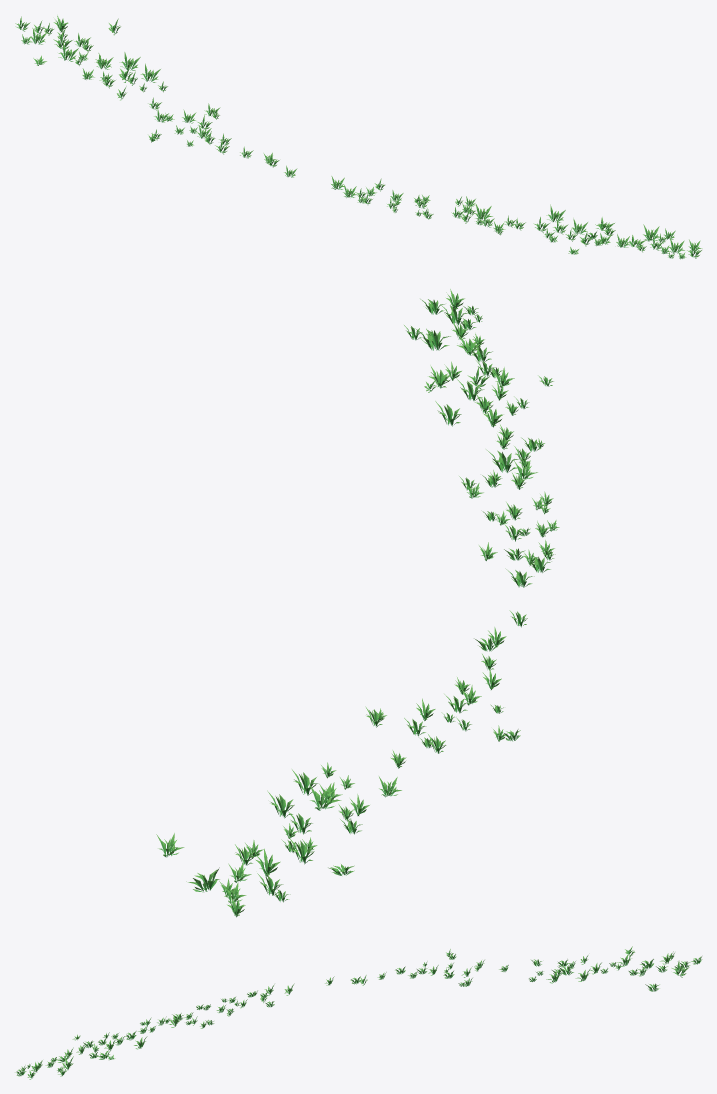
The model's file is Area_12_56.fbx.
3 renders of one model, top to bottom at view 1: azimuth 30°, elevation 25°; view 2: azimuth 150°, elevation 25°; view 3: azimuth 270°, elevation 25°, orthographic. The views are drawn at different scales.
Parts seen in each view (by area): view 1: Area_12_56; view 2: Area_12_56; view 3: Area_12_56.
Boxes of the visible parts, x1,y1,x2,y2 form: Area_12_56: [15, 15, 702, 259]; Area_12_56: [156, 289, 559, 917]; Area_12_56: [15, 946, 702, 1079].
Bounding box in the file's own units: 2208 × 108 × 4977.
